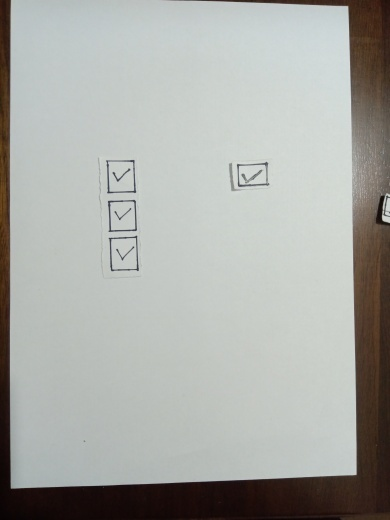checkbox: (104, 159, 134, 191), (109, 243, 139, 275), (107, 200, 137, 232), (237, 157, 267, 189)
